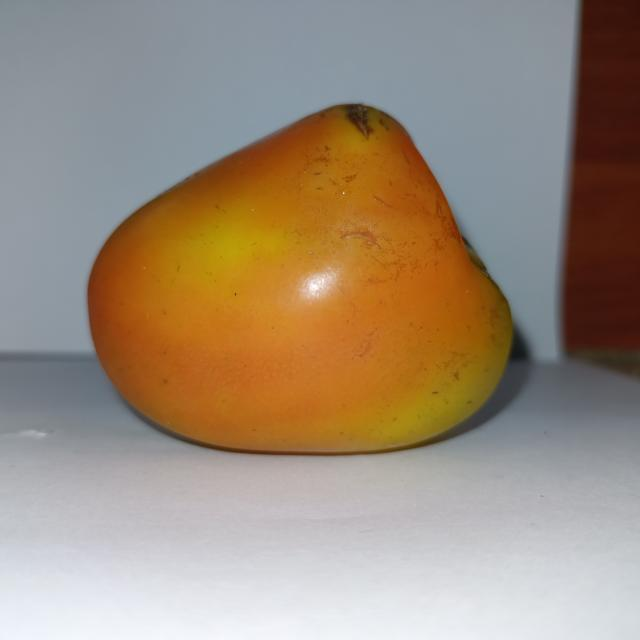Red: (85, 101, 515, 456)
